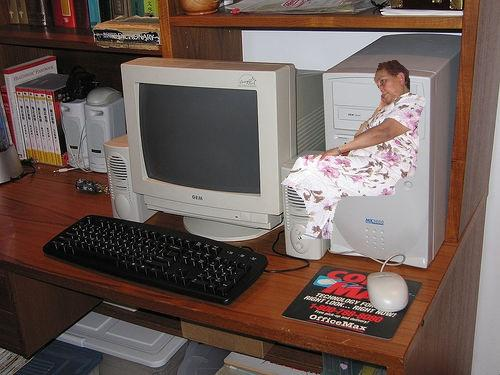tampered: (282, 61, 426, 239)
